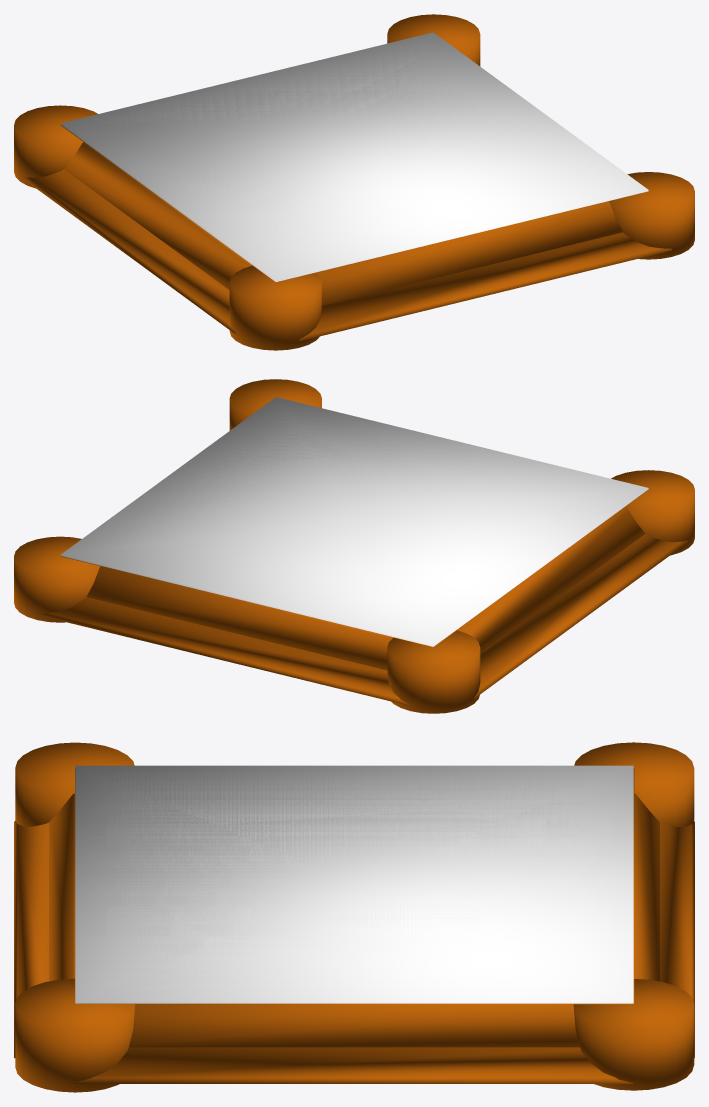
The model's file is Feld-Weis-01.fbx.
3 views of the same model, one above another, from view 1: azimuth 30°, elevation 25°; view 2: azimuth 150°, elevation 25°; view 3: azimuth 270°, elevation 25° (orthographic). The views are drawn at different scales.
Visible parts, largest first — view 1: s.0073 (×2), p.0086, p.0095, p.0095_Mirrored, p.0097_Mirrored, p.0097, p.0096; view 2: s.0073 (×2), p.0086, p.0097_Mirrored, p.0097, p.0095, p.0095_Mirrored, p.0096; view 3: s.0073 (×2), p.0086, p.0097, p.0095_Mirrored, p.0097_Mirrored, p.0095, p.0096.
Boxes of the visible parts, box(x1,y1,x2,y2) form: s.0073 (×2): box(61, 32, 648, 281); p.0086: box(20, 125, 671, 341); p.0095: box(229, 265, 321, 350); p.0095_Mirrored: box(609, 172, 694, 259); p.0097_Mirrored: box(14, 105, 97, 188); p.0097: box(387, 14, 480, 66); p.0096: box(609, 172, 694, 258); s.0073 (×2): box(61, 397, 648, 646); p.0086: box(37, 489, 689, 705); p.0097_Mirrored: box(387, 630, 480, 713); p.0097: box(14, 536, 100, 622); p.0095: box(611, 470, 694, 555); p.0095_Mirrored: box(229, 379, 321, 430); p.0096: box(230, 379, 321, 427); s.0073 (×2): box(75, 765, 633, 1003); p.0086: box(14, 768, 694, 1083); p.0097: box(573, 979, 694, 1090); p.0095_Mirrored: box(15, 978, 135, 1092); p.0097_Mirrored: box(574, 742, 694, 826); p.0095: box(15, 742, 134, 826); p.0096: box(15, 979, 129, 1091).
Bounding box in the file's own units: 949 × 100 × 949.
